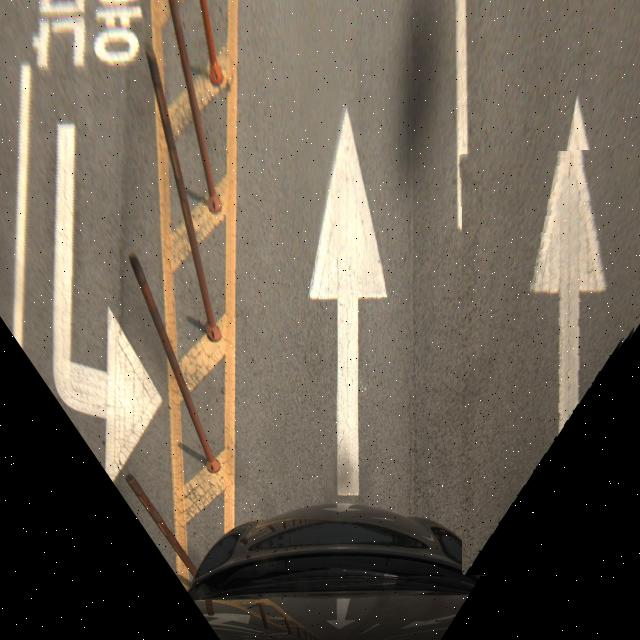left: (462, 151, 639, 575)
